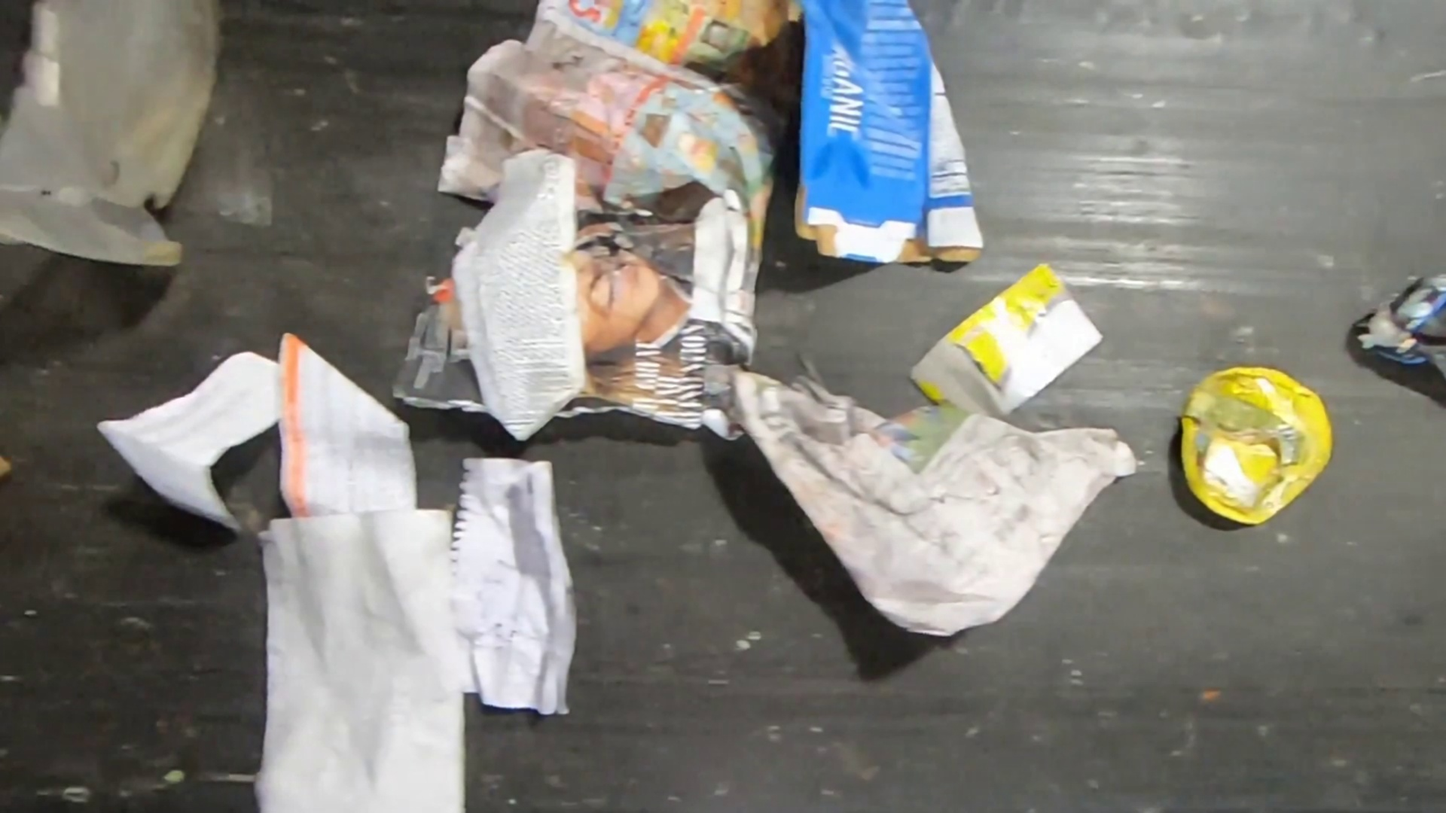cardboard: (792, 0, 989, 265), (905, 256, 1108, 421)
plastic: (0, 0, 226, 268), (1178, 361, 1337, 527)
